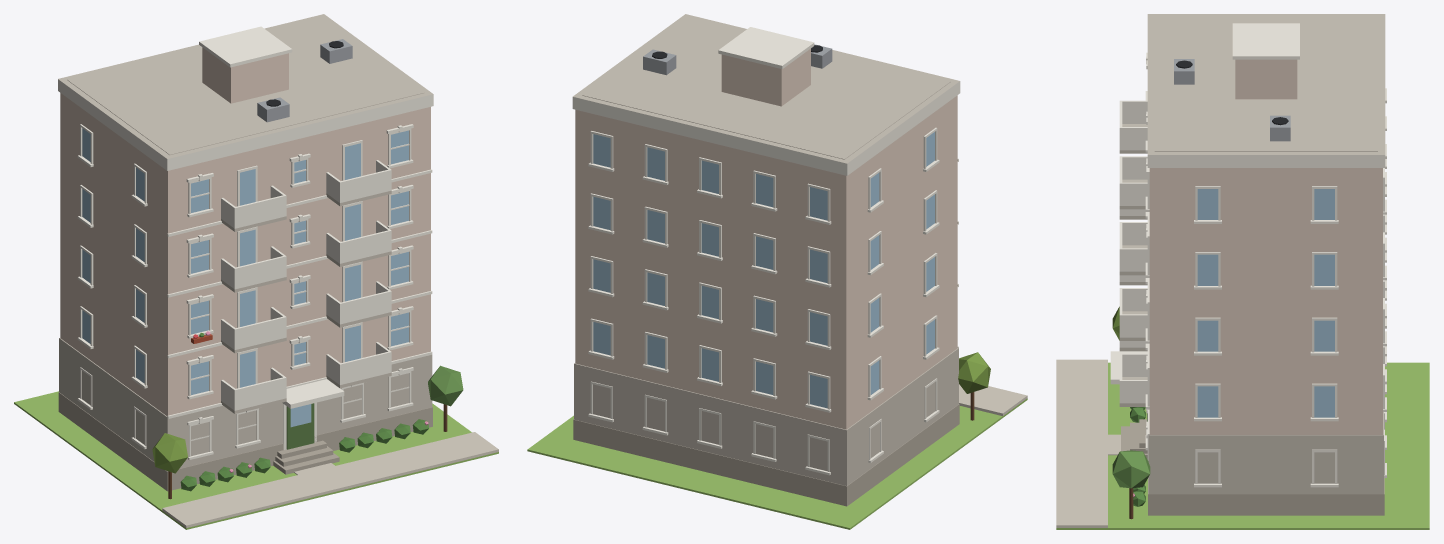
The model's file is Apartman_2_3_Hafif.fbx.
3 renders of one model, left to right at view 1: azimuth 30°, elevation 25°; view 2: azimuth 150°, elevation 25°; view 3: azimuth 270°, elevation 25°, orthographic. The views are drawn at different scales.
Visible parts, largest first — view 1: Apartman_2_3_Hafif; view 2: Apartman_2_3_Hafif; view 3: Apartman_2_3_Hafif.
Part boxes in pixels (left/top/right/bottom): Apartman_2_3_Hafif: left=14, top=14, right=498, bottom=529; Apartman_2_3_Hafif: left=527, top=14, right=1027, bottom=529; Apartman_2_3_Hafif: left=1056, top=14, right=1429, bottom=529.
Size of the model in its own units: 15.1 by 17.33 by 14.4.
